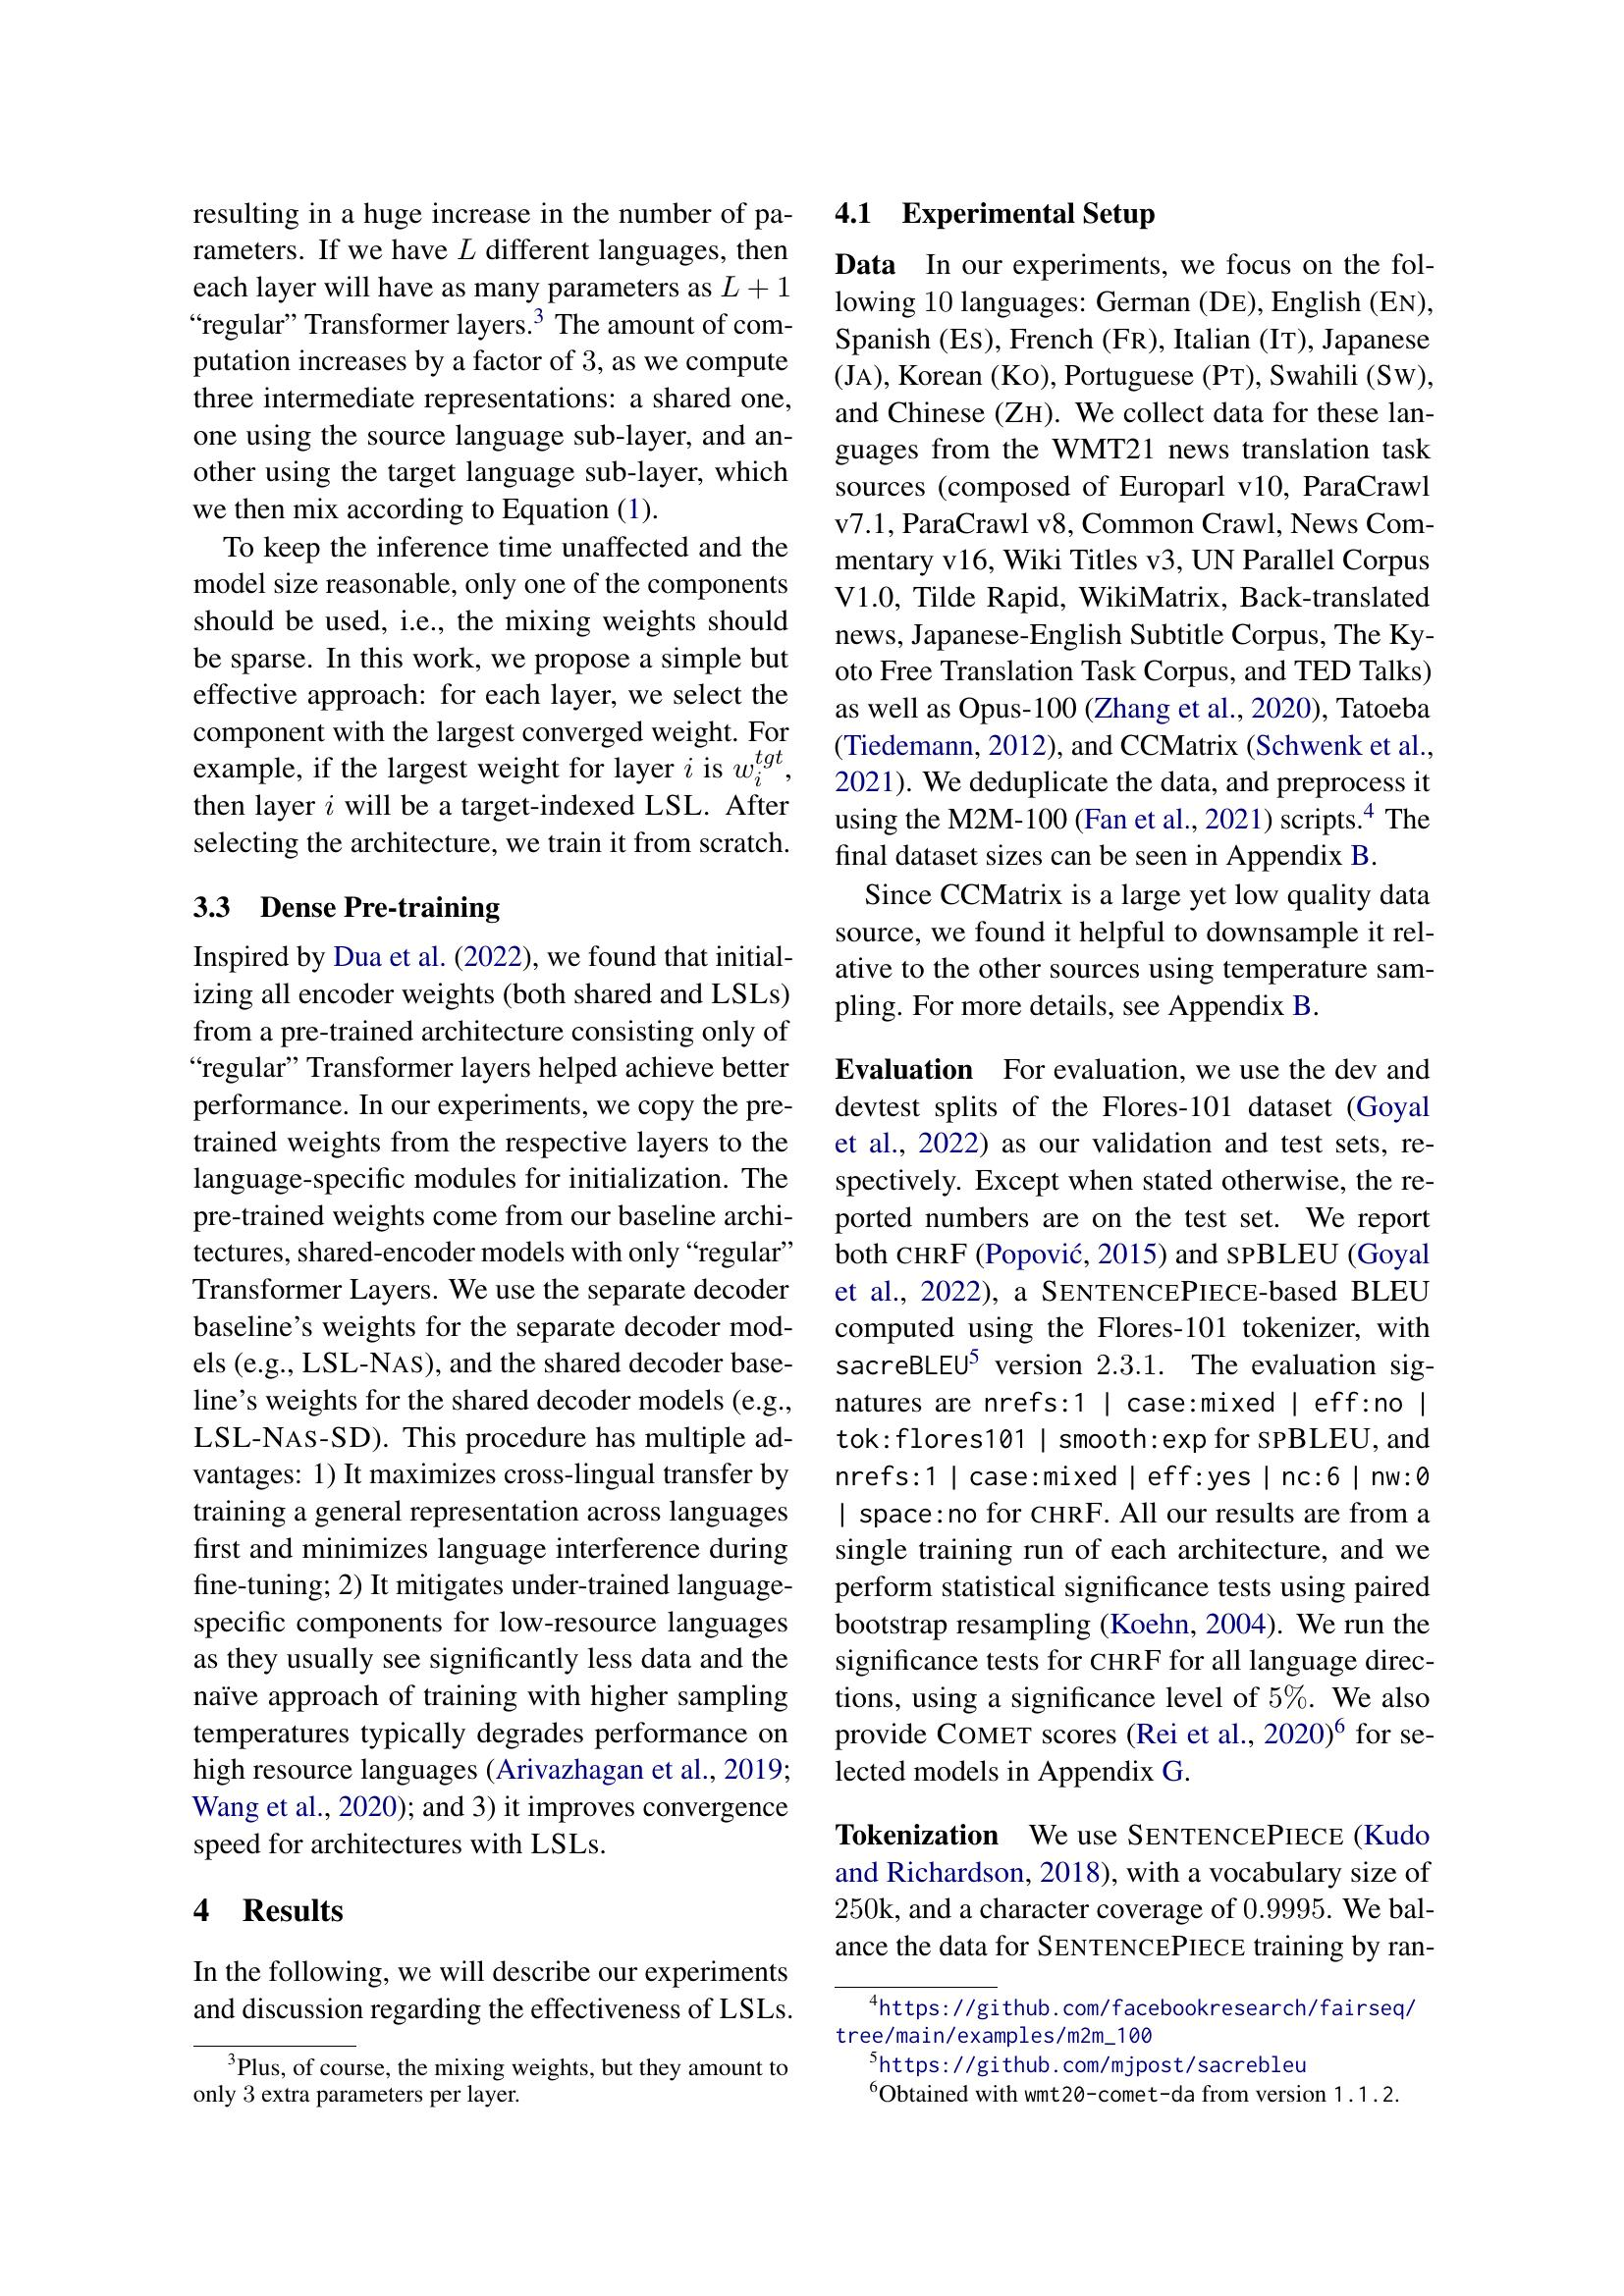text: (183, 885, 803, 2036), (826, 1049, 1441, 1969), (823, 191, 1443, 1029), (183, 193, 800, 868)
